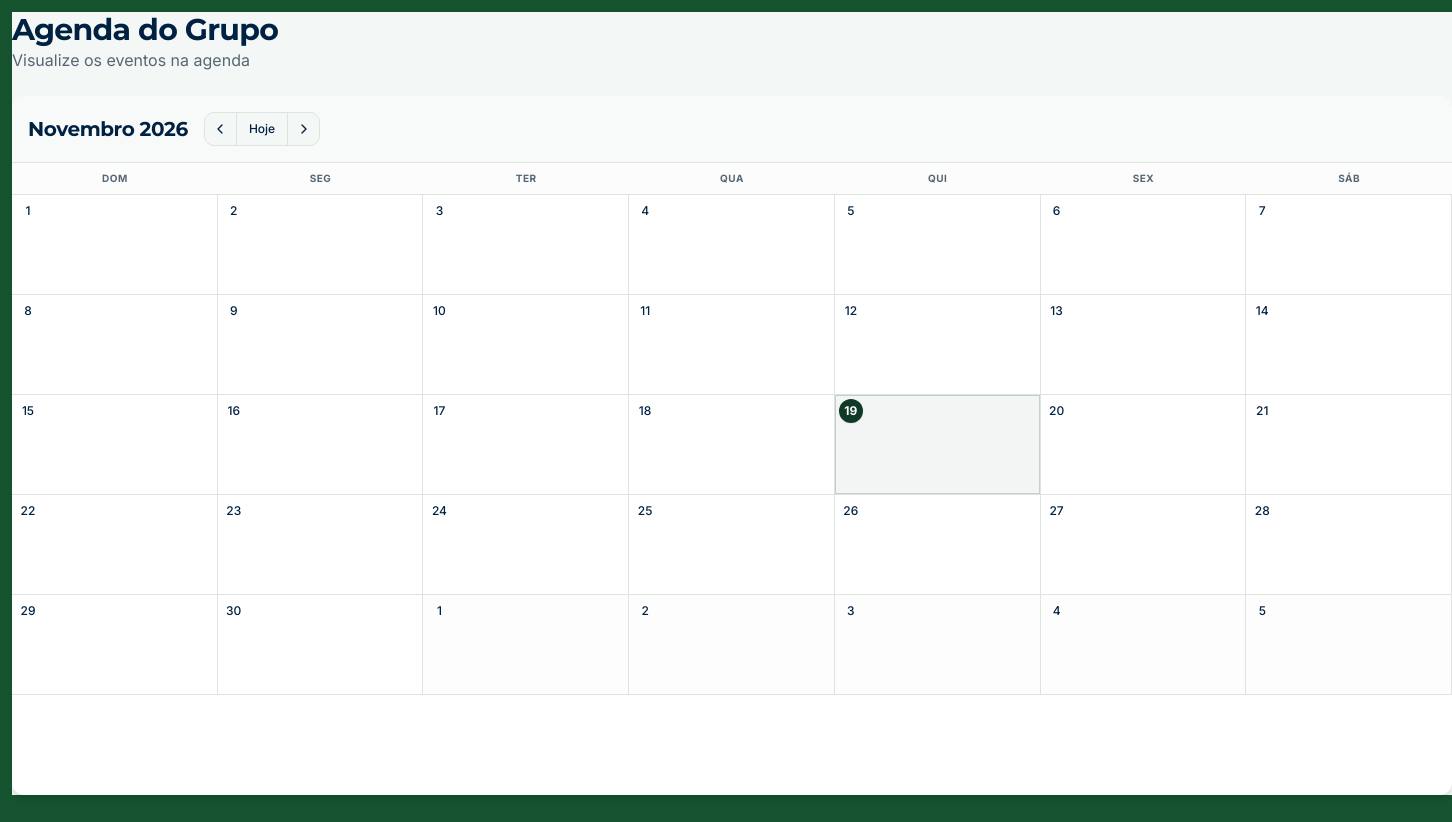
Test case: Seção Informativo do card de evento › colapsa descrições longas e permite expandir
Step 1. Click the element showing "19" → [938, 445], box [835, 395, 1040, 495]
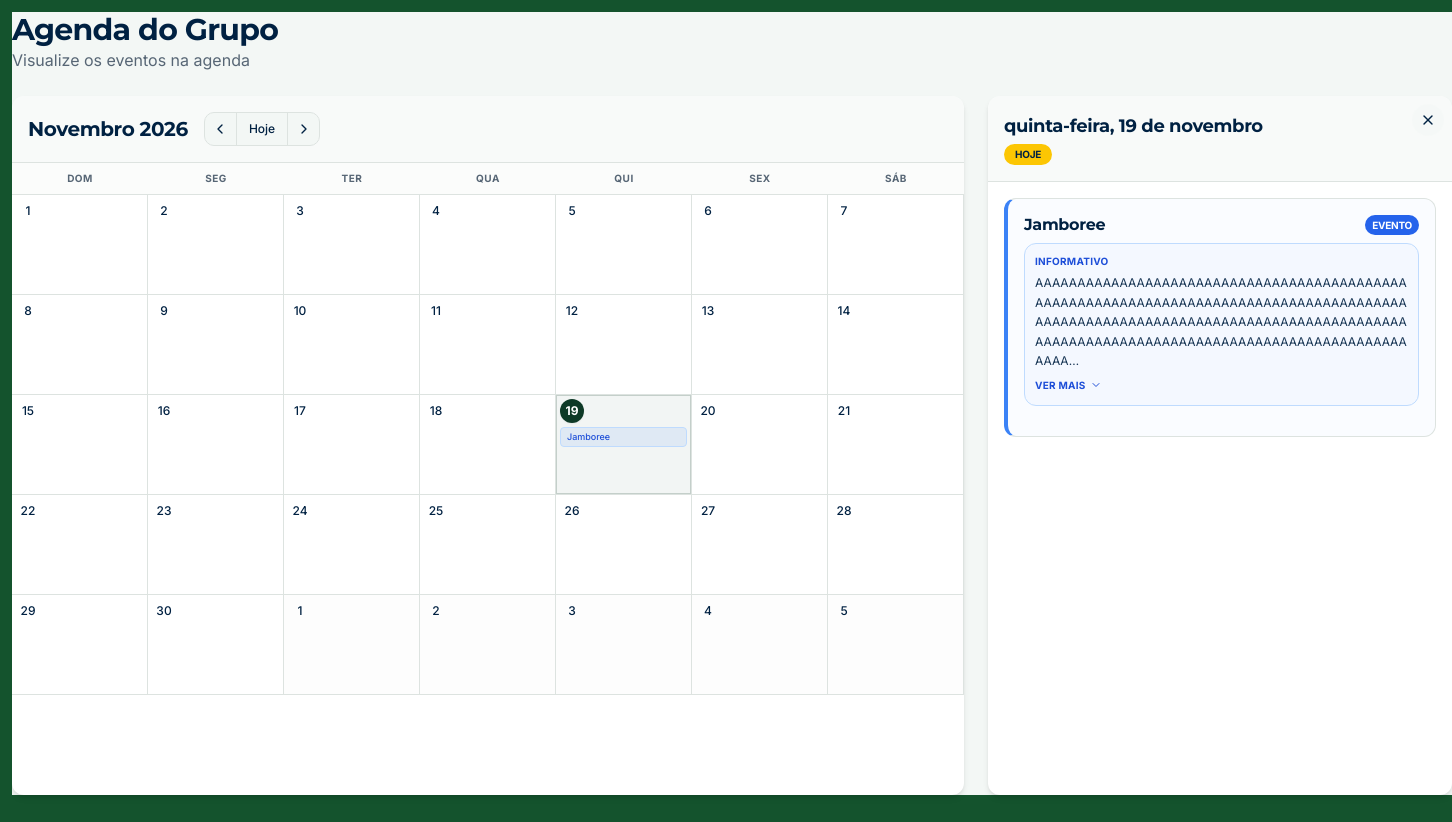
Step 2. Click the button "Ver mais" → [1068, 385], box [1035, 378, 1102, 392]
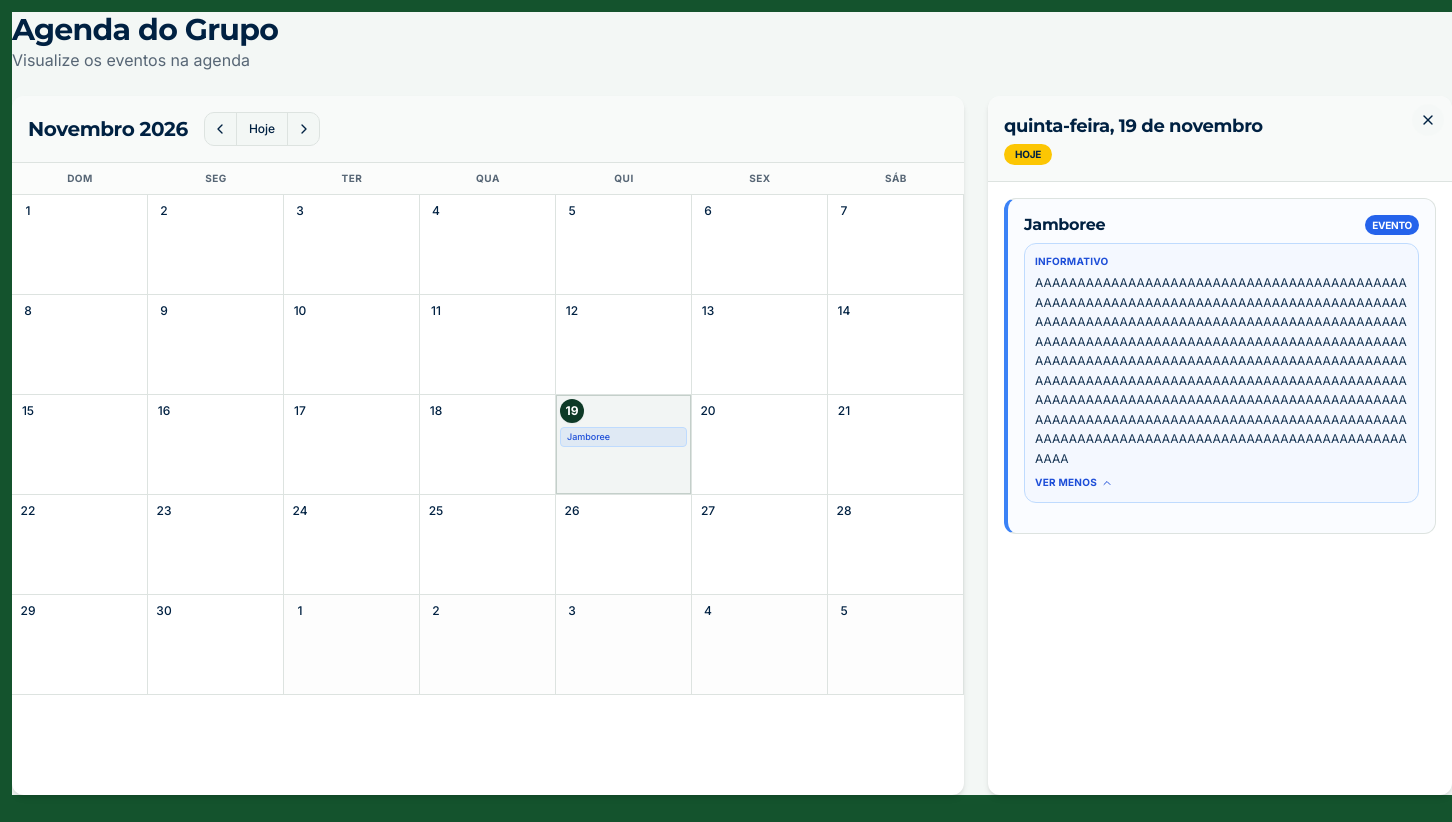
Now the button "Ver menos" is shown, box [1035, 475, 1113, 490]
